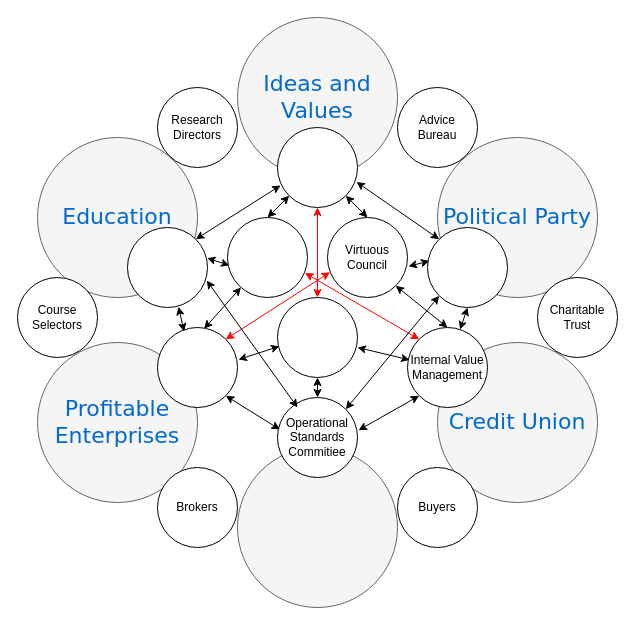
Some shapes in this 635 by 625 pixel diagram are drawn without their labels. The centre of each missing label's shape, as x and y in pixels:
"Constitutional Principles" belongs at pixel 317 167.
"Democratic Elect" belongs at pixel 467 267.
"Faculty" belongs at pixel 167 267.
"Human Care and Development" belongs at pixel 317 527.
"Meritous Council" belongs at pixel 267 257.
"Project Managment" belongs at pixel 197 367.
"Statutory Council" belongs at pixel 317 337.
